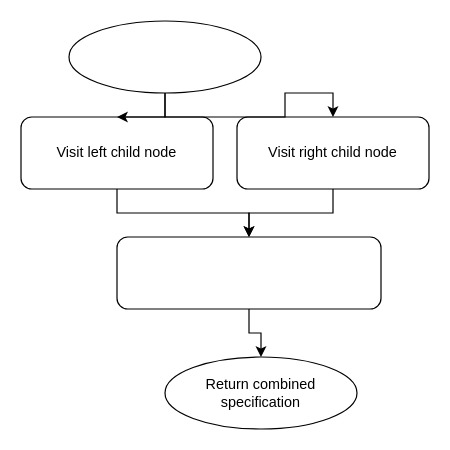
This 450x450 diagram has some shape labels left out. The shapes that lost their labels are listed below. From the top down, each one's box as (x1, y1, x2, y2) in pixels, then its label:
(68, 20, 261, 93): visit(OrNode) called
(116, 236, 381, 309): Combine left and right specifications with OR
